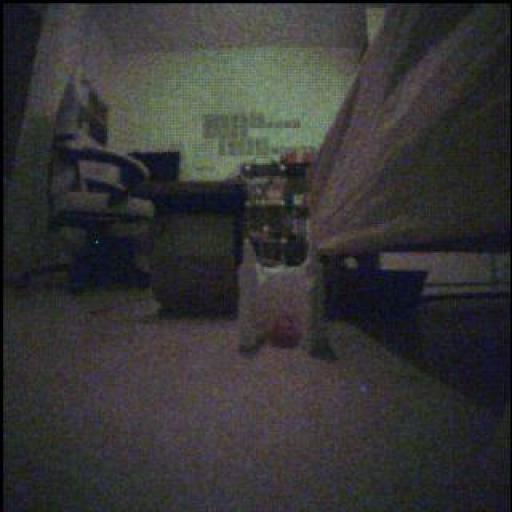basket: (268, 314, 301, 352)
